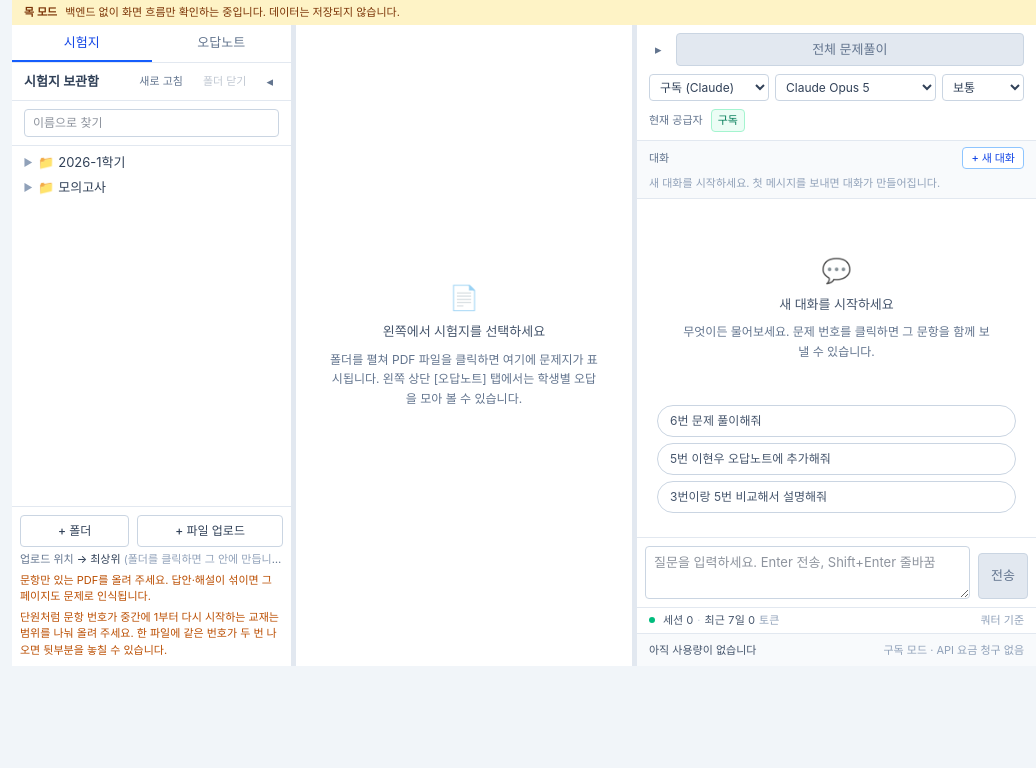
Test: 좌측 2섹션 (시험지 / 오답노트) › 노트를 클릭하면 중앙에 항목 목록(비어 있음)이 뜬다
The image size is (1036, 768).
Expected: the text "2026-1학기" is shown, left=58, top=154, right=126, bottom=170
What coordinates should you click on to do the following:
click the tab "오답노트"
I would click on:
 (221, 43)
Its box is left=152, top=24, right=291, bottom=62.
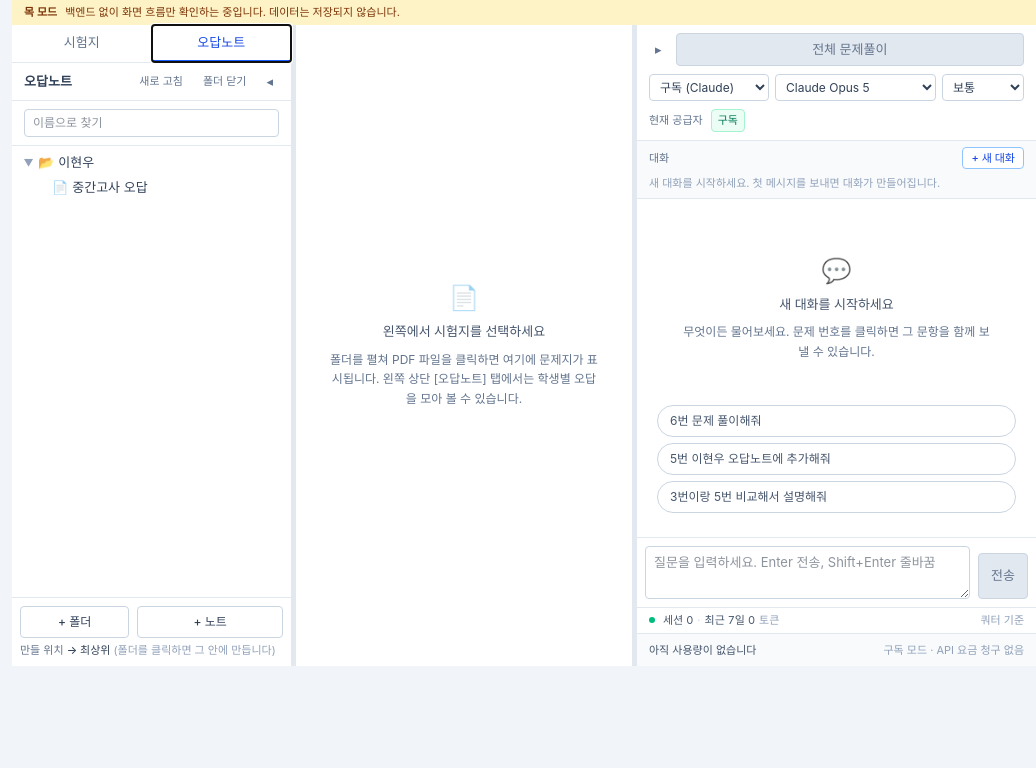
Expected: the list item "▶ 📂 이현우" is shown, left=22, top=154, right=94, bottom=170
What coordinates should you click on to do the following:
click the list item "📄 중간고사 오답"
I would click on:
 (100, 187)
Its box is left=52, top=179, right=148, bottom=195.
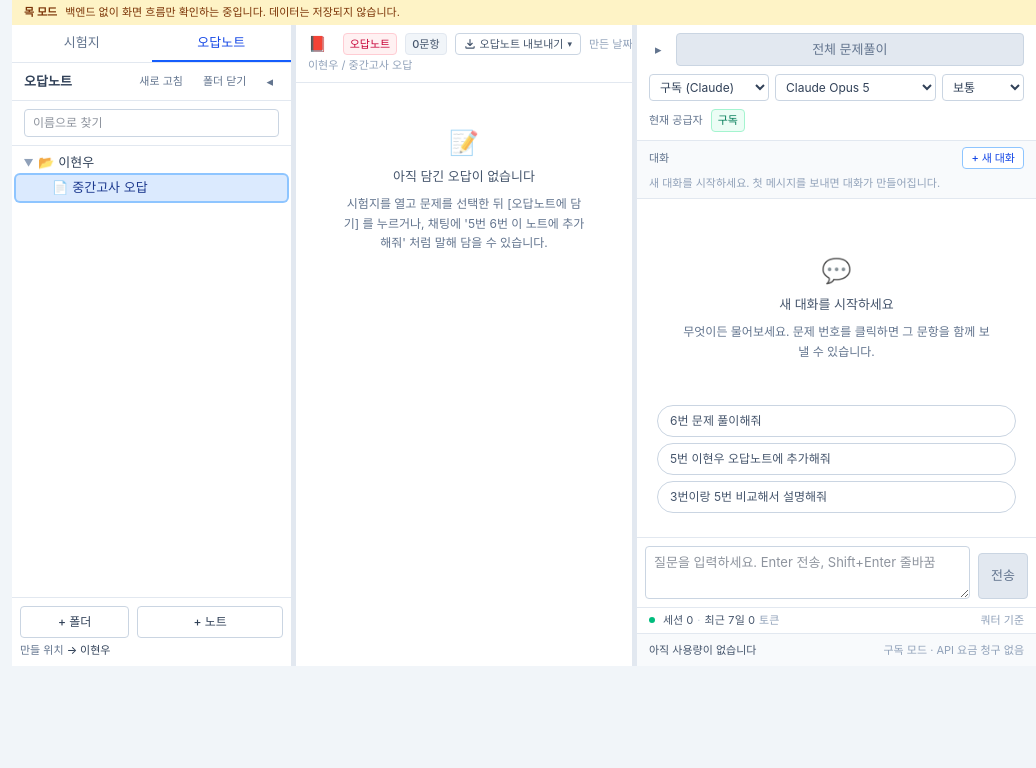
Expected: the text "아직 담긴 오답이 없습니다" is shown, left=393, top=166, right=535, bottom=186
